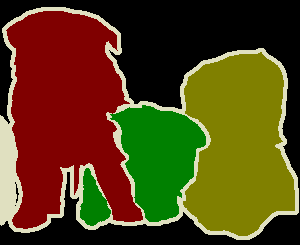dog: (5, 6, 130, 229), (181, 48, 297, 237), (78, 102, 215, 226)
